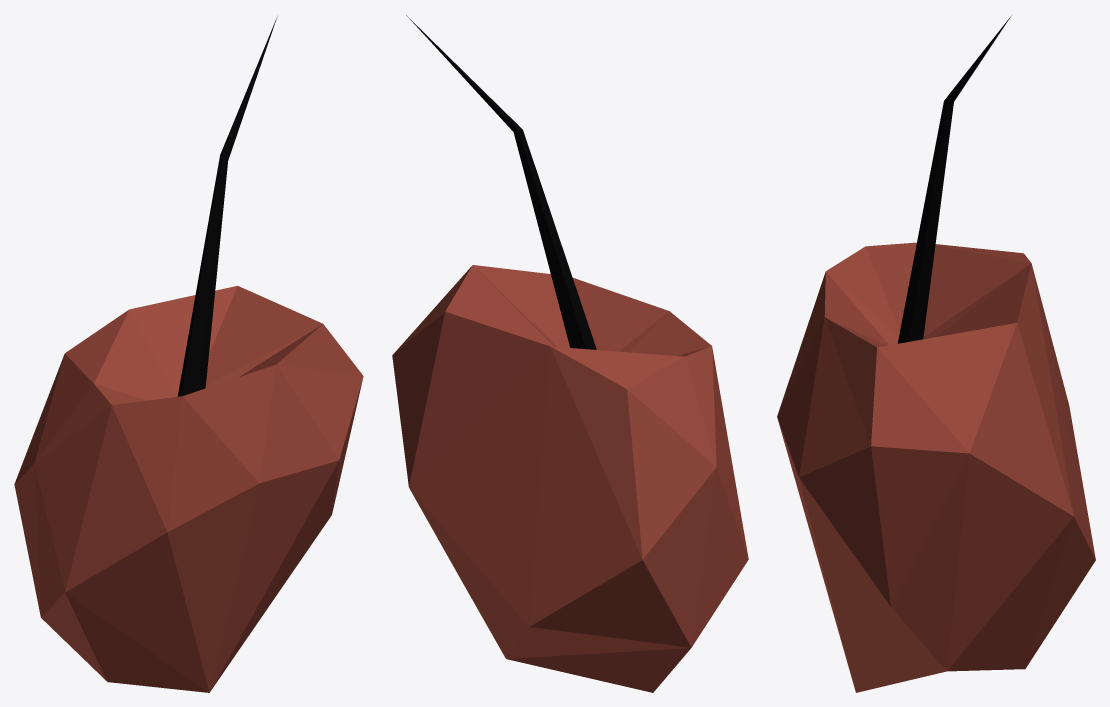
The model's file is Cherry_fruit_1.fbx.
The picture shows the model from 3 angles, left to right: view 1: azimuth 30°, elevation 25°; view 2: azimuth 150°, elevation 25°; view 3: azimuth 270°, elevation 25°; orthographic projection. The views are drawn at different scales.
Parts seen in each view (by area): view 1: Cherry_fruit; view 2: Cherry_fruit; view 3: Cherry_fruit.
Part boxes in pixels (x1=…): Cherry_fruit: x1=14, y1=16, x2=363, y2=692; Cherry_fruit: x1=392, y1=15, x2=748, y2=692; Cherry_fruit: x1=777, y1=15, x2=1095, y2=692.
Bounding box in the file's own units: 27.96 × 54.53 × 20.75.
